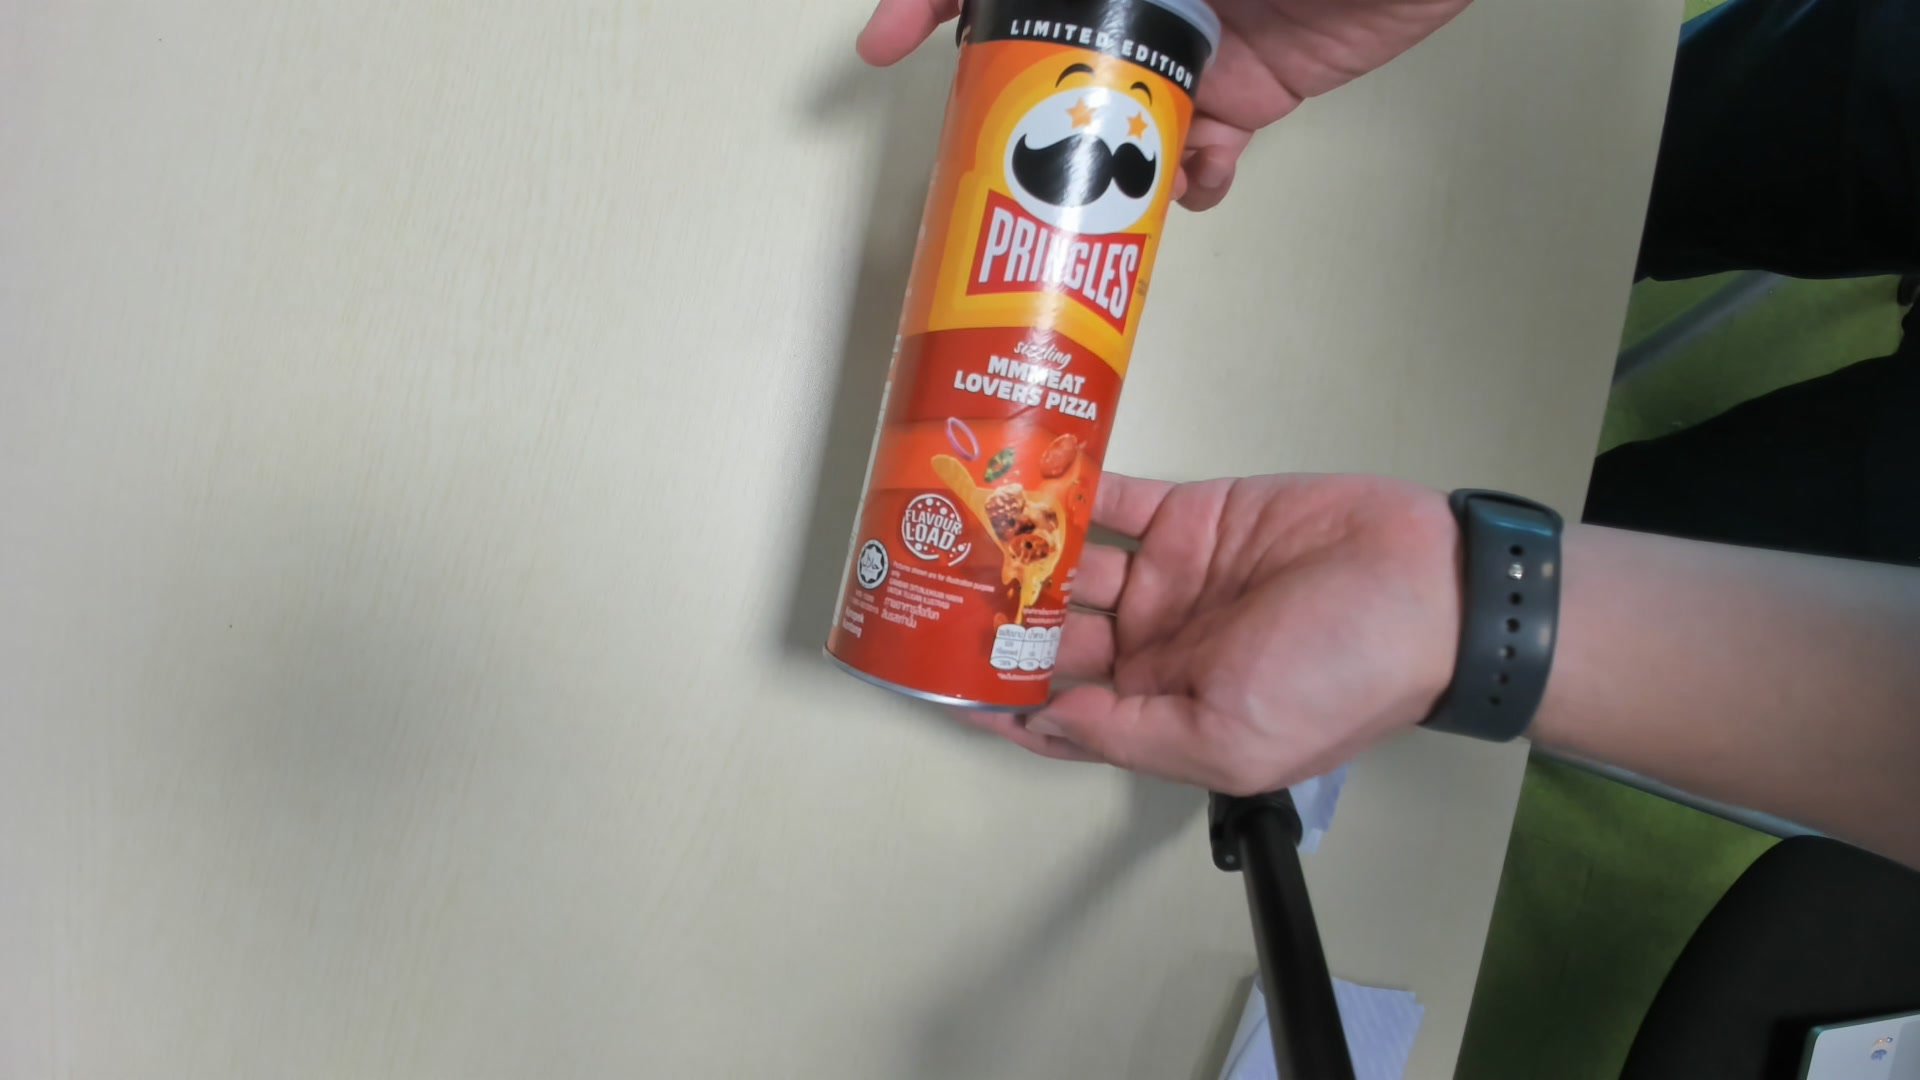PotatoChipsKeropok_0-99g_Halal_NonHealthy: (808, 1, 1203, 713)
